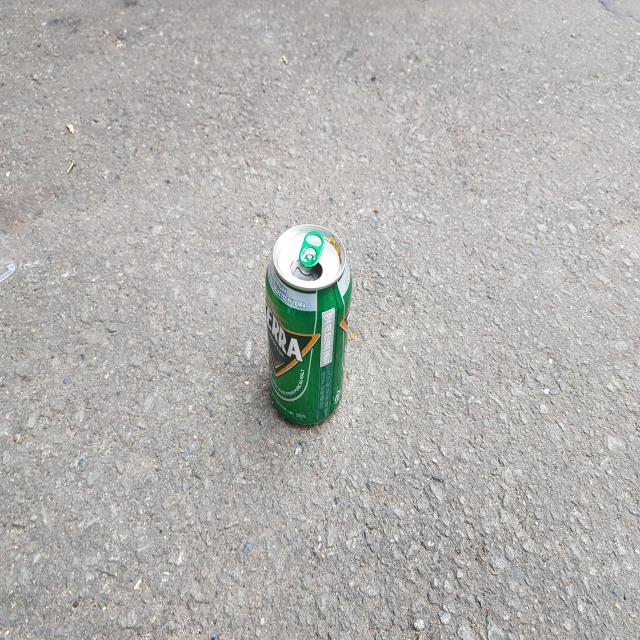can: (265, 224, 352, 425)
